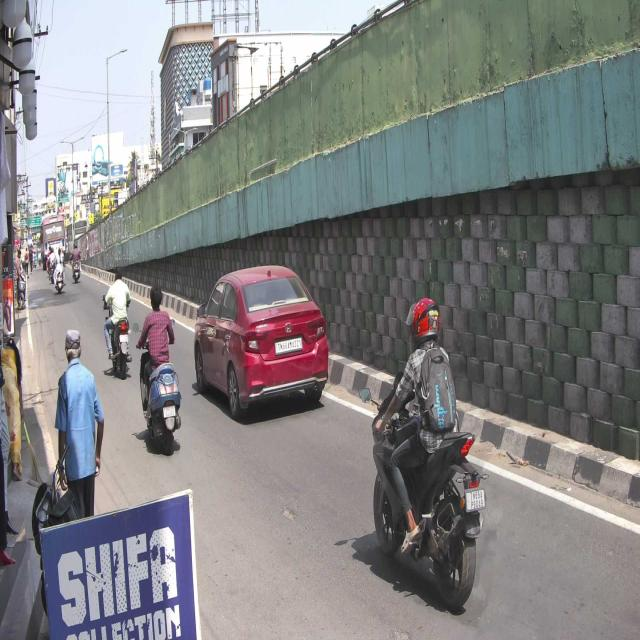single_rider: (362, 295, 488, 609), (138, 285, 184, 447)
